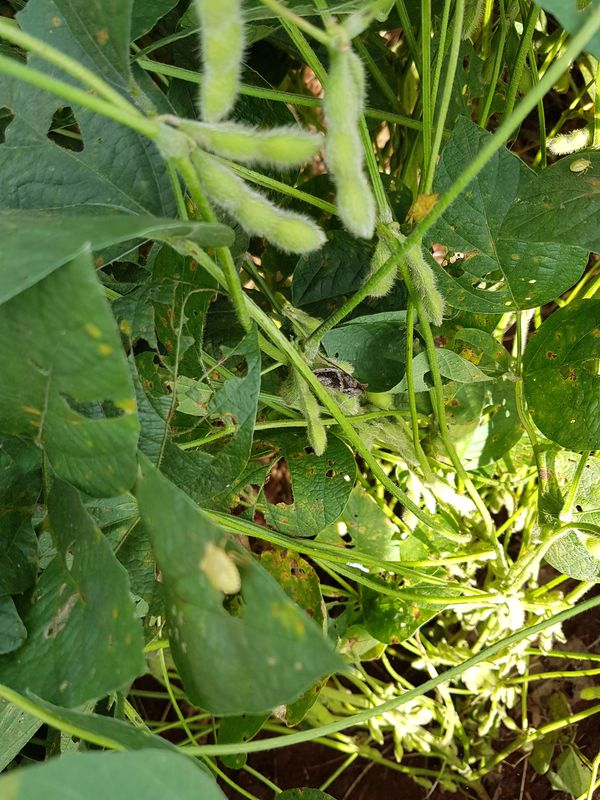Euschistus_heros_ninfa: (190, 538, 248, 602)
